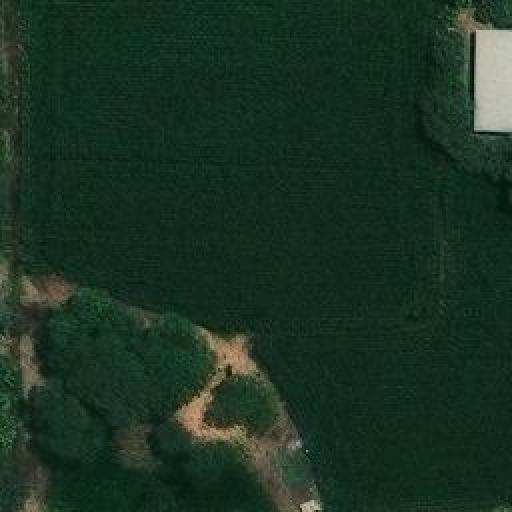manzanas: (472, 29, 510, 136)
